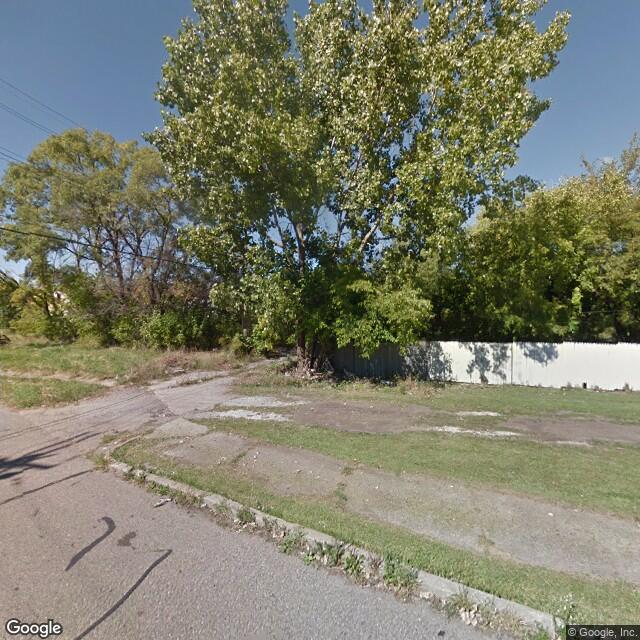litter: (149, 497, 172, 507), (546, 510, 558, 518)
